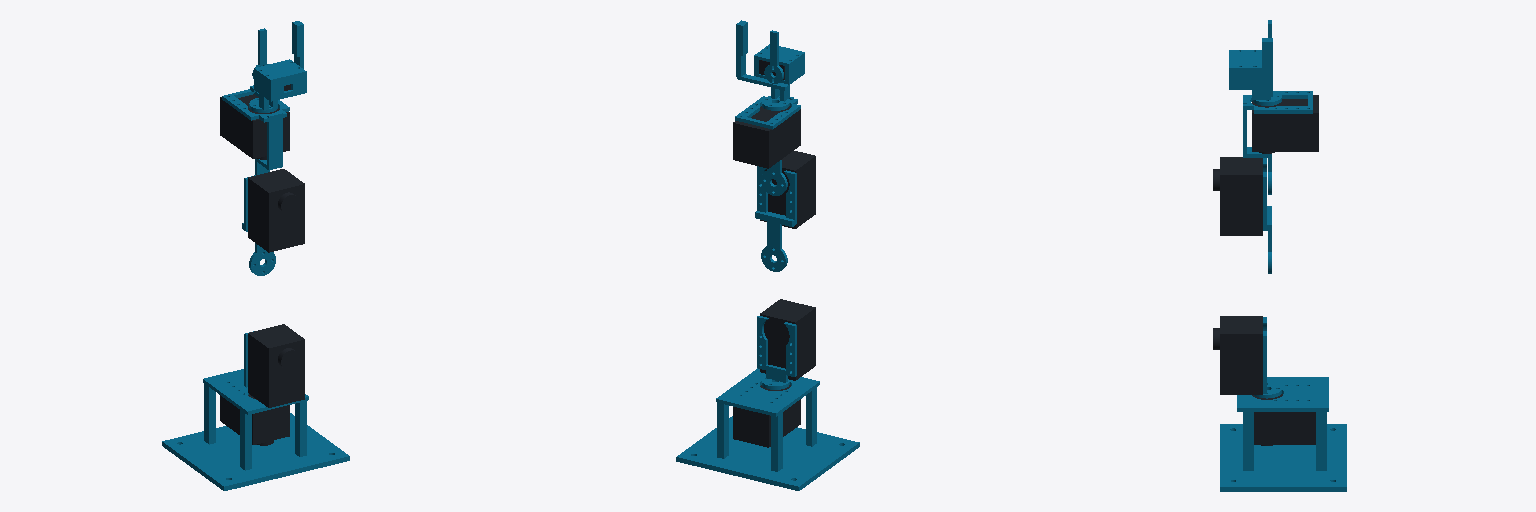
The robot description file, URDF, robot "ax12_compact_v1":
<?xml version='1.0' encoding='utf-8'?>
<robot name="ax12_compact_v1">
  <!--Prototype geometry. Mass/inertia estimated from solid PLA and uniform motor envelopes; not calibrated hardware.-->
  <link name="world" />
  <material name="frame">
    <color rgba="0.08 0.48 0.62 1" />
  </material>
  <material name="servo">
    <color rgba="0.16 0.18 0.21 1" />
  </material>
  <link name="base_link">
    <visual name="base_stand">
      <geometry>
        <mesh filename="package://ax12_compact_description/meshes/base_stand.stl" scale="0.001 0.001 0.001" />
      </geometry>
      <material name="frame" />
    </visual>
    <collision name="base_stand">
      <geometry>
        <mesh filename="package://ax12_compact_description/meshes/base_stand.stl" scale="0.001 0.001 0.001" />
      </geometry>
    </collision>
    <visual name="base_link_servo_envelope">
      <geometry>
        <mesh filename="package://ax12_compact_description/meshes/base_link_servo_envelope.stl" scale="0.001 0.001 0.001" />
      </geometry>
      <material name="servo" />
    </visual>
    <collision name="base_link_servo_envelope">
      <geometry>
        <mesh filename="package://ax12_compact_description/meshes/base_link_servo_envelope.stl" scale="0.001 0.001 0.001" />
      </geometry>
    </collision>
    <inertial>
      <origin xyz="-1.79935276e-18 0.0127759432 0.0232730101" rpy="0 0 0" />
      <mass value="0.128737942" />
      <inertia ixx="0.00011162180520937973" ixy="3.189749353172939e-21" ixz="1.1586191520392139e-21" iyy="0.00011510426524225655" iyz="-1.776163673309487e-06" izz="0.00012752698056599557" />
    </inertial>
  </link>
  <link name="yaw_link">
    <visual name="yaw_shoulder_adapter">
      <geometry>
        <mesh filename="package://ax12_compact_description/meshes/yaw_shoulder_adapter.stl" scale="0.001 0.001 0.001" />
      </geometry>
      <material name="frame" />
    </visual>
    <collision name="yaw_shoulder_adapter">
      <geometry>
        <mesh filename="package://ax12_compact_description/meshes/yaw_shoulder_adapter.stl" scale="0.001 0.001 0.001" />
      </geometry>
    </collision>
    <visual name="yaw_link_servo_envelope">
      <geometry>
        <mesh filename="package://ax12_compact_description/meshes/yaw_link_servo_envelope.stl" scale="0.001 0.001 0.001" />
      </geometry>
      <material name="servo" />
    </visual>
    <collision name="yaw_link_servo_envelope">
      <geometry>
        <mesh filename="package://ax12_compact_description/meshes/yaw_link_servo_envelope.stl" scale="0.001 0.001 0.001" />
      </geometry>
    </collision>
    <inertial>
      <origin xyz="2.58692508e-19 -0.0180651817 0.0298954105" rpy="0 0 0" />
      <mass value="0.0587440842" />
      <inertia ixx="1.9305414659528464e-05" ixy="1.8558757560957577e-22" ixz="-9.213880861028669e-22" iyy="1.809454994057601e-05" iyz="1.1517932467238502e-06" izz="1.1307425677339752e-05" />
    </inertial>
  </link>
  <link name="upper_link">
    <visual name="upper_link">
      <geometry>
        <mesh filename="package://ax12_compact_description/meshes/upper_link.stl" scale="0.001 0.001 0.001" />
      </geometry>
      <material name="frame" />
    </visual>
    <collision name="upper_link">
      <geometry>
        <mesh filename="package://ax12_compact_description/meshes/upper_link.stl" scale="0.001 0.001 0.001" />
      </geometry>
    </collision>
    <visual name="upper_link_servo_envelope">
      <geometry>
        <mesh filename="package://ax12_compact_description/meshes/upper_link_servo_envelope.stl" scale="0.001 0.001 0.001" />
      </geometry>
      <material name="servo" />
    </visual>
    <collision name="upper_link_servo_envelope">
      <geometry>
        <mesh filename="package://ax12_compact_description/meshes/upper_link_servo_envelope.stl" scale="0.001 0.001 0.001" />
      </geometry>
    </collision>
    <inertial>
      <origin xyz="2.17043748e-19 -0.0175684721 0.0498938309" rpy="0 0 0" />
      <mass value="0.0600578747" />
      <inertia ixx="2.2997667879704717e-05" ixy="2.2514283421915803e-22" ixz="9.52137944803341e-22" iyy="2.1258747948218116e-05" iyz="2.4245427438439603e-06" izz="1.1991399055684758e-05" />
    </inertial>
  </link>
  <link name="forearm_link">
    <visual name="forearm_link">
      <geometry>
        <mesh filename="package://ax12_compact_description/meshes/forearm_link.stl" scale="0.001 0.001 0.001" />
      </geometry>
      <material name="frame" />
    </visual>
    <collision name="forearm_link">
      <geometry>
        <mesh filename="package://ax12_compact_description/meshes/forearm_link.stl" scale="0.001 0.001 0.001" />
      </geometry>
    </collision>
    <visual name="forearm_link_servo_envelope">
      <geometry>
        <mesh filename="package://ax12_compact_description/meshes/forearm_link_servo_envelope.stl" scale="0.001 0.001 0.001" />
      </geometry>
      <material name="servo" />
    </visual>
    <collision name="forearm_link_servo_envelope">
      <geometry>
        <mesh filename="package://ax12_compact_description/meshes/forearm_link_servo_envelope.stl" scale="0.001 0.001 0.001" />
      </geometry>
    </collision>
    <inertial>
      <origin xyz="2.17043748e-19 -0.0175684721 0.0498938309" rpy="0 0 0" />
      <mass value="0.0600578747" />
      <inertia ixx="2.2997667879704717e-05" ixy="2.2514283421915803e-22" ixz="9.52137944803341e-22" iyy="2.1258747948218116e-05" iyz="2.4245427438439603e-06" izz="1.1991399055684758e-05" />
    </inertial>
  </link>
  <link name="wrist_link">
    <visual name="wrist_adapter">
      <geometry>
        <mesh filename="package://ax12_compact_description/meshes/wrist_adapter.stl" scale="0.001 0.001 0.001" />
      </geometry>
      <material name="frame" />
    </visual>
    <collision name="wrist_adapter">
      <geometry>
        <mesh filename="package://ax12_compact_description/meshes/wrist_adapter.stl" scale="0.001 0.001 0.001" />
      </geometry>
    </collision>
    <visual name="wrist_link_servo_envelope">
      <geometry>
        <mesh filename="package://ax12_compact_description/meshes/wrist_link_servo_envelope.stl" scale="0.001 0.001 0.001" />
      </geometry>
      <material name="servo" />
    </visual>
    <collision name="wrist_link_servo_envelope">
      <geometry>
        <mesh filename="package://ax12_compact_description/meshes/wrist_link_servo_envelope.stl" scale="0.001 0.001 0.001" />
      </geometry>
    </collision>
    <inertial>
      <origin xyz="2.30389212e-19 0.0116306256 0.0449532233" rpy="0 0 0" />
      <mass value="0.0619825991" />
      <inertia ixx="2.3869382953085558e-05" ixy="3.2093567300525574e-23" ixz="9.160849471761743e-22" iyy="1.471730266627571e-05" iyz="-1.3757643952310932e-06" izz="1.9339316107298668e-05" />
    </inertial>
  </link>
  <link name="hand_link">
    <visual name="gripper_body">
      <geometry>
        <mesh filename="package://ax12_compact_description/meshes/gripper_body.stl" scale="0.001 0.001 0.001" />
      </geometry>
      <material name="frame" />
    </visual>
    <collision name="gripper_body">
      <geometry>
        <mesh filename="package://ax12_compact_description/meshes/gripper_body.stl" scale="0.001 0.001 0.001" />
      </geometry>
    </collision>
    <visual name="gripper_cap">
      <geometry>
        <mesh filename="package://ax12_compact_description/meshes/gripper_cap.stl" scale="0.001 0.001 0.001" />
      </geometry>
      <material name="frame" />
    </visual>
    <collision name="gripper_cap">
      <geometry>
        <mesh filename="package://ax12_compact_description/meshes/gripper_cap.stl" scale="0.001 0.001 0.001" />
      </geometry>
    </collision>
    <visual name="hand_link_servo_envelope">
      <geometry>
        <mesh filename="package://ax12_compact_description/meshes/hand_link_servo_envelope.stl" scale="0.001 0.001 0.001" />
      </geometry>
      <material name="servo" />
    </visual>
    <collision name="hand_link_servo_envelope">
      <geometry>
        <mesh filename="package://ax12_compact_description/meshes/hand_link_servo_envelope.stl" scale="0.001 0.001 0.001" />
      </geometry>
    </collision>
    <inertial>
      <origin xyz="0.00718096196 -0.0122542543 0.0267981879" rpy="0 0 0" />
      <mass value="0.0279219305" />
      <inertia ixx="4.719970227694483e-06" ixy="-6.546531411490908e-07" ixz="-1.1409755179397278e-06" iyy="5.9384668983279694e-06" iyz="1.7682056224303725e-07" izz="5.276433532052223e-06" />
    </inertial>
  </link>
  <link name="finger_link">
    <visual name="moving_finger">
      <geometry>
        <mesh filename="package://ax12_compact_description/meshes/moving_finger.stl" scale="0.001 0.001 0.001" />
      </geometry>
      <material name="frame" />
    </visual>
    <collision name="moving_finger">
      <geometry>
        <mesh filename="package://ax12_compact_description/meshes/moving_finger.stl" scale="0.001 0.001 0.001" />
      </geometry>
    </collision>
    <inertial>
      <origin xyz="8.5614128e-20 0.0022 0.0110279215" rpy="0 0 0" />
      <mass value="0.00124979127" />
      <inertia ixx="2.0282807176997313e-07" ixy="-2.3463133193716354e-25" ixz="1.3388449812455071e-24" iyy="2.1560361616690497e-07" iyz="-1.353576564503819e-23" izz="1.4650231297481011e-08" />
    </inertial>
  </link>
  <joint name="base_yaw" type="revolute">
    <parent link="base_link" />
    <child link="yaw_link" />
    <origin xyz="0 0 0.055" rpy="0 0 0" />
    <axis xyz="0 0 1" />
    <limit lower="-1.57" upper="1.57" effort="0.3" velocity="0.35" />
  </joint>
  <joint name="shoulder_pitch" type="revolute">
    <parent link="yaw_link" />
    <child link="upper_link" />
    <origin xyz="0 0 0.044" rpy="0 0 0" />
    <axis xyz="0 1 0" />
    <limit lower="-0.65" upper="0.65" effort="0.3" velocity="0.35" />
  </joint>
  <joint name="elbow_pitch" type="revolute">
    <parent link="upper_link" />
    <child link="forearm_link" />
    <origin xyz="0 0 0.065" rpy="0 0 0" />
    <axis xyz="0 1 0" />
    <limit lower="-0.85" upper="0.85" effort="0.3" velocity="0.35" />
  </joint>
  <joint name="wrist_pitch" type="revolute">
    <parent link="forearm_link" />
    <child link="wrist_link" />
    <origin xyz="0 0 0.065" rpy="0 0 0" />
    <axis xyz="0 1 0" />
    <limit lower="-0.7" upper="0.7" effort="0.3" velocity="0.35" />
  </joint>
  <joint name="wrist_roll" type="revolute">
    <parent link="wrist_link" />
    <child link="hand_link" />
    <origin xyz="0 0 0.065" rpy="0 0 0" />
    <axis xyz="0 0 1" />
    <limit lower="-1.0" upper="1.0" effort="0.3" velocity="0.35" />
  </joint>
  <joint name="gripper" type="revolute">
    <parent link="hand_link" />
    <child link="finger_link" />
    <origin xyz="0 0 0.028" rpy="0 0 0" />
    <axis xyz="0 1 0" />
    <limit lower="0.0" upper="0.7" effort="0.035" velocity="0.35" />
  </joint>
  <joint name="world_to_base" type="fixed">
    <parent link="world" />
    <child link="base_link" />
    <origin xyz="0 0 0" rpy="0 0 0" />
  </joint>
</robot>

--- Render facts (derived) ---
3 views of the same robot in one strip: view 1: azimuth 30°, elevation 25°; view 2: azimuth 150°, elevation 25°; view 3: azimuth 270°, elevation 25° (orthographic).
Model ax12_compact_v1 with 8 links and 7 joints (6 revolute, 1 fixed), rooted at world, posed every joint at zero.
Visible links, largest first — view 1: base_link, forearm_link, yaw_link, wrist_link, hand_link; view 2: base_link, yaw_link, wrist_link, forearm_link, hand_link, finger_link; view 3: base_link, wrist_link, forearm_link, yaw_link, hand_link.
Link boxes in pixels (left/top/right/bottom): base_link: left=162, top=369, right=349, bottom=490; forearm_link: left=242, top=169, right=304, bottom=275; yaw_link: left=244, top=324, right=304, bottom=407; wrist_link: left=220, top=89, right=289, bottom=175; hand_link: left=249, top=21, right=306, bottom=112; base_link: left=676, top=368, right=859, bottom=490; yaw_link: left=757, top=299, right=815, bottom=389; wrist_link: left=733, top=96, right=800, bottom=195; forearm_link: left=755, top=151, right=815, bottom=271; hand_link: left=736, top=20, right=804, bottom=110; finger_link: left=764, top=30, right=783, bottom=83; base_link: left=1220, top=377, right=1346, bottom=491; wrist_link: left=1243, top=91, right=1318, bottom=194; forearm_link: left=1213, top=157, right=1271, bottom=273; yaw_link: left=1213, top=316, right=1281, bottom=398; hand_link: left=1229, top=38, right=1281, bottom=105.
Size in the robot's own frame: 0.11 by 0.099 by 0.358 metres.
Meshes: 14 distinct files referenced, 12 mesh visuals loaded (12 binary STL); not drawn: 2 (reference not matched to a file when rendering).
